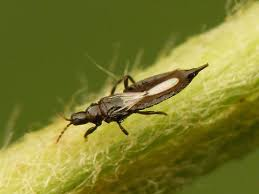Phlaeothripidae: (56, 59, 212, 146)
